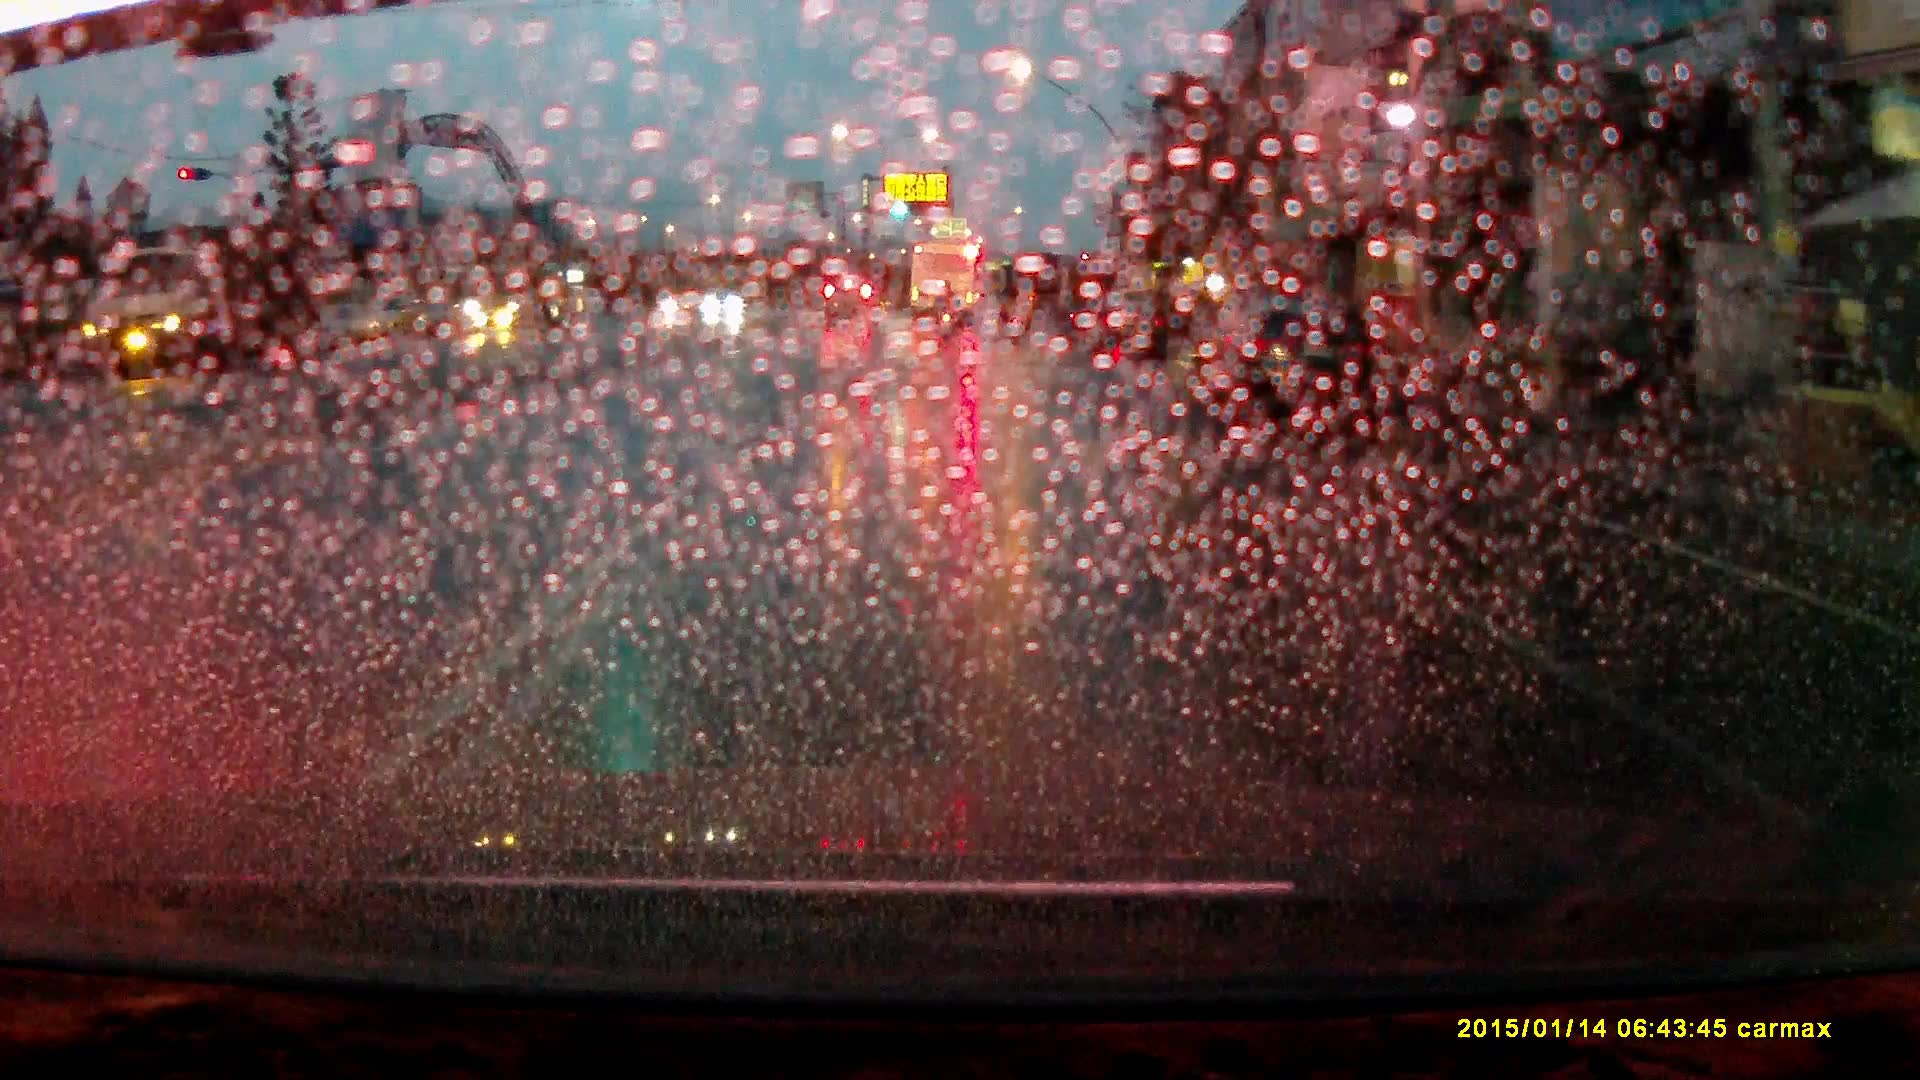rider: (935, 289, 962, 351)
vehicle: (74, 249, 286, 382), (1203, 311, 1397, 429), (466, 264, 573, 340), (910, 241, 979, 330), (1087, 304, 1172, 362), (823, 286, 883, 335), (700, 293, 747, 323)
